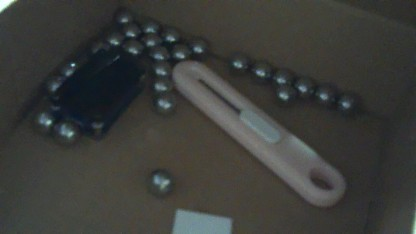ironball: (145, 166, 177, 196), (54, 118, 81, 140), (31, 108, 55, 132), (225, 49, 250, 70), (338, 88, 358, 113), (152, 93, 175, 113), (294, 74, 311, 101), (314, 82, 332, 105), (83, 38, 107, 55), (250, 58, 266, 83), (142, 16, 162, 35), (148, 77, 171, 93), (276, 83, 294, 102), (273, 64, 291, 83), (43, 77, 65, 92), (147, 62, 172, 75), (62, 58, 78, 78), (119, 22, 139, 38), (110, 11, 132, 25), (122, 38, 140, 55), (169, 43, 187, 60), (190, 38, 207, 55), (162, 23, 177, 40), (142, 34, 160, 48), (149, 47, 167, 59), (108, 30, 121, 45)
